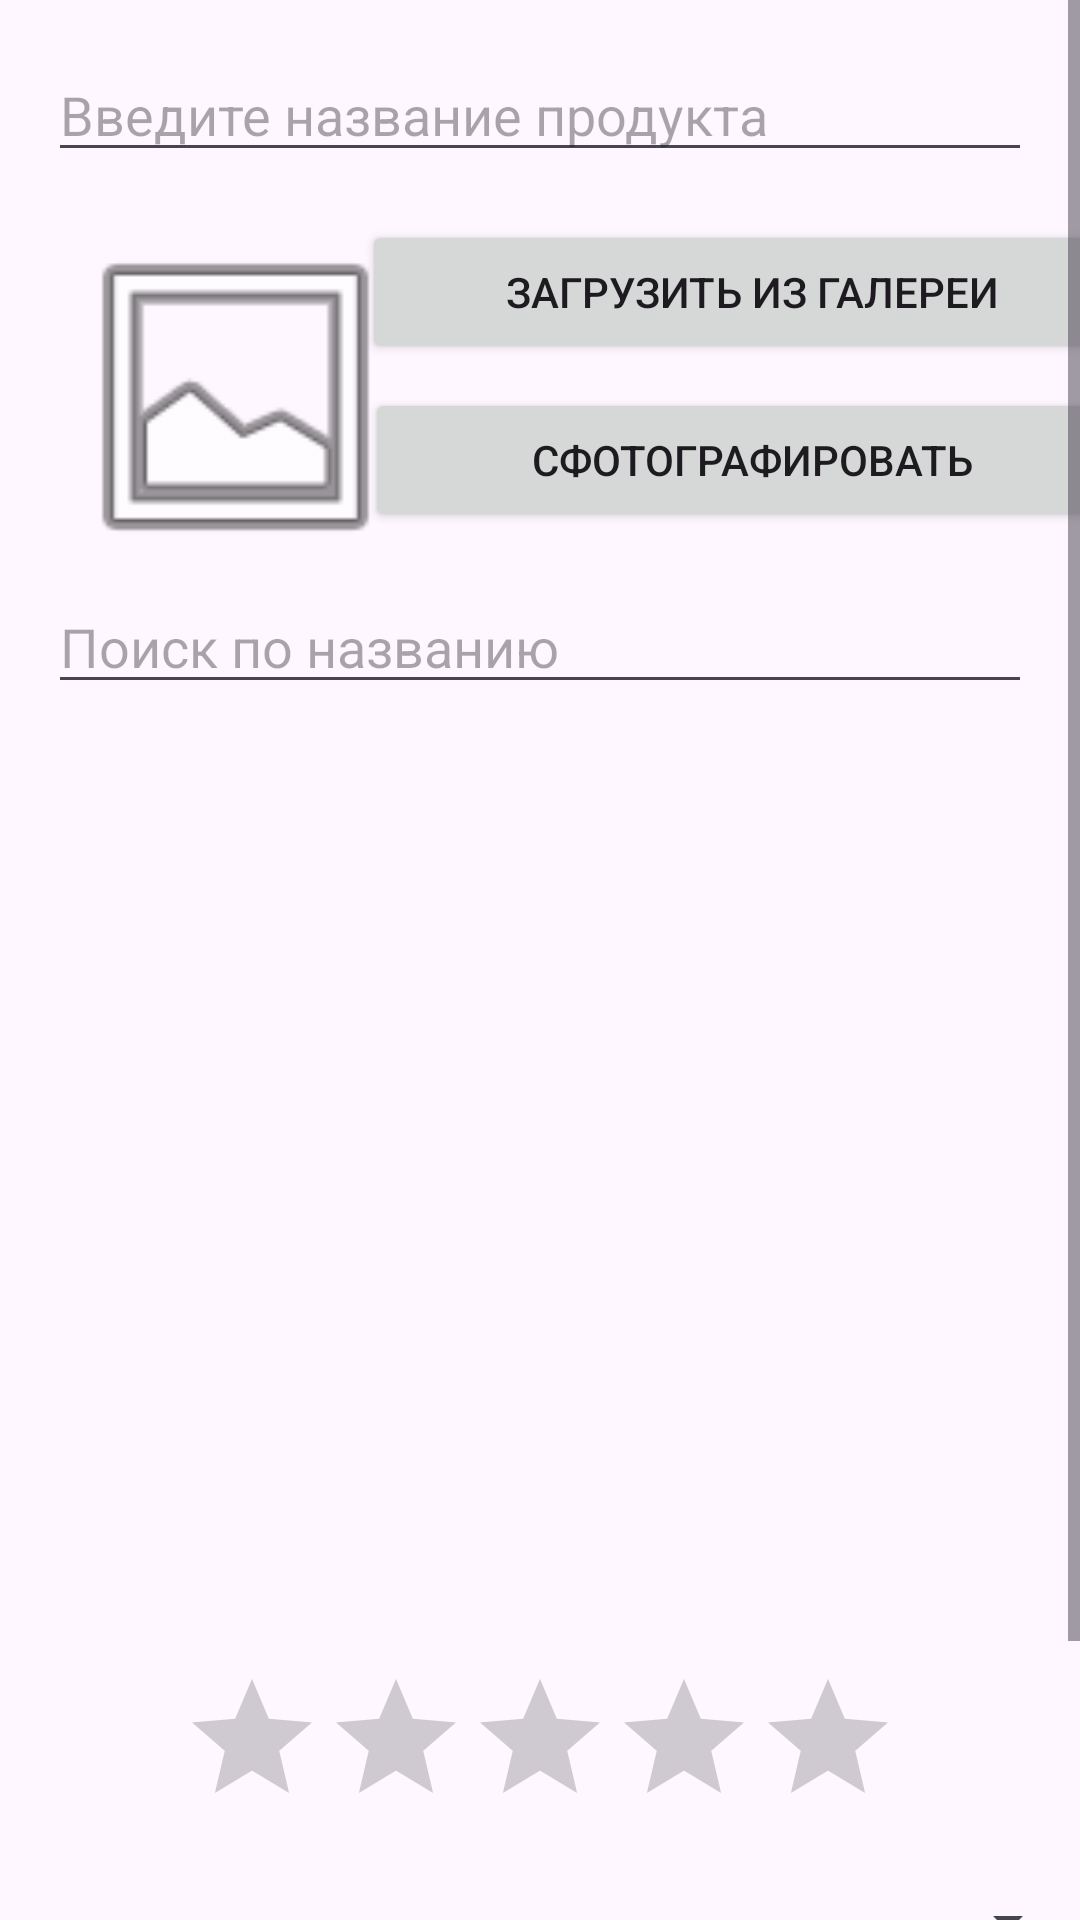

Screen size 1080px x 1920px. Icon name, then its box in pixels as (x1, y1, x2, y2):
gallery: (102, 263, 369, 531)
